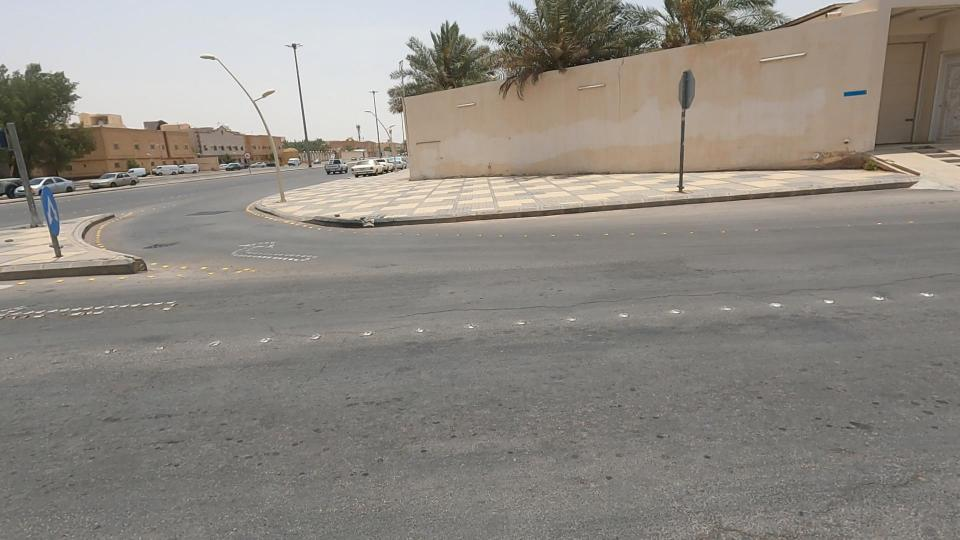FADED_SIGNAGE: (13, 163, 82, 253)
